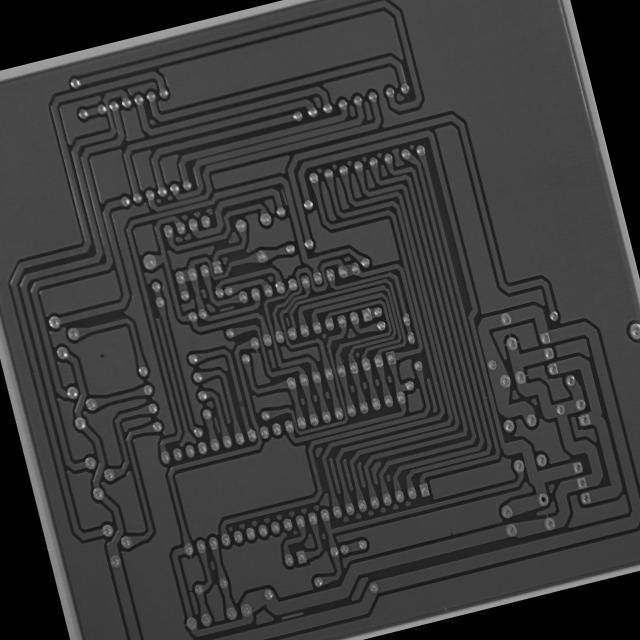spurious_copper: (276, 606, 306, 624), (214, 300, 238, 317), (208, 412, 224, 436), (274, 184, 290, 208), (282, 313, 294, 329)
